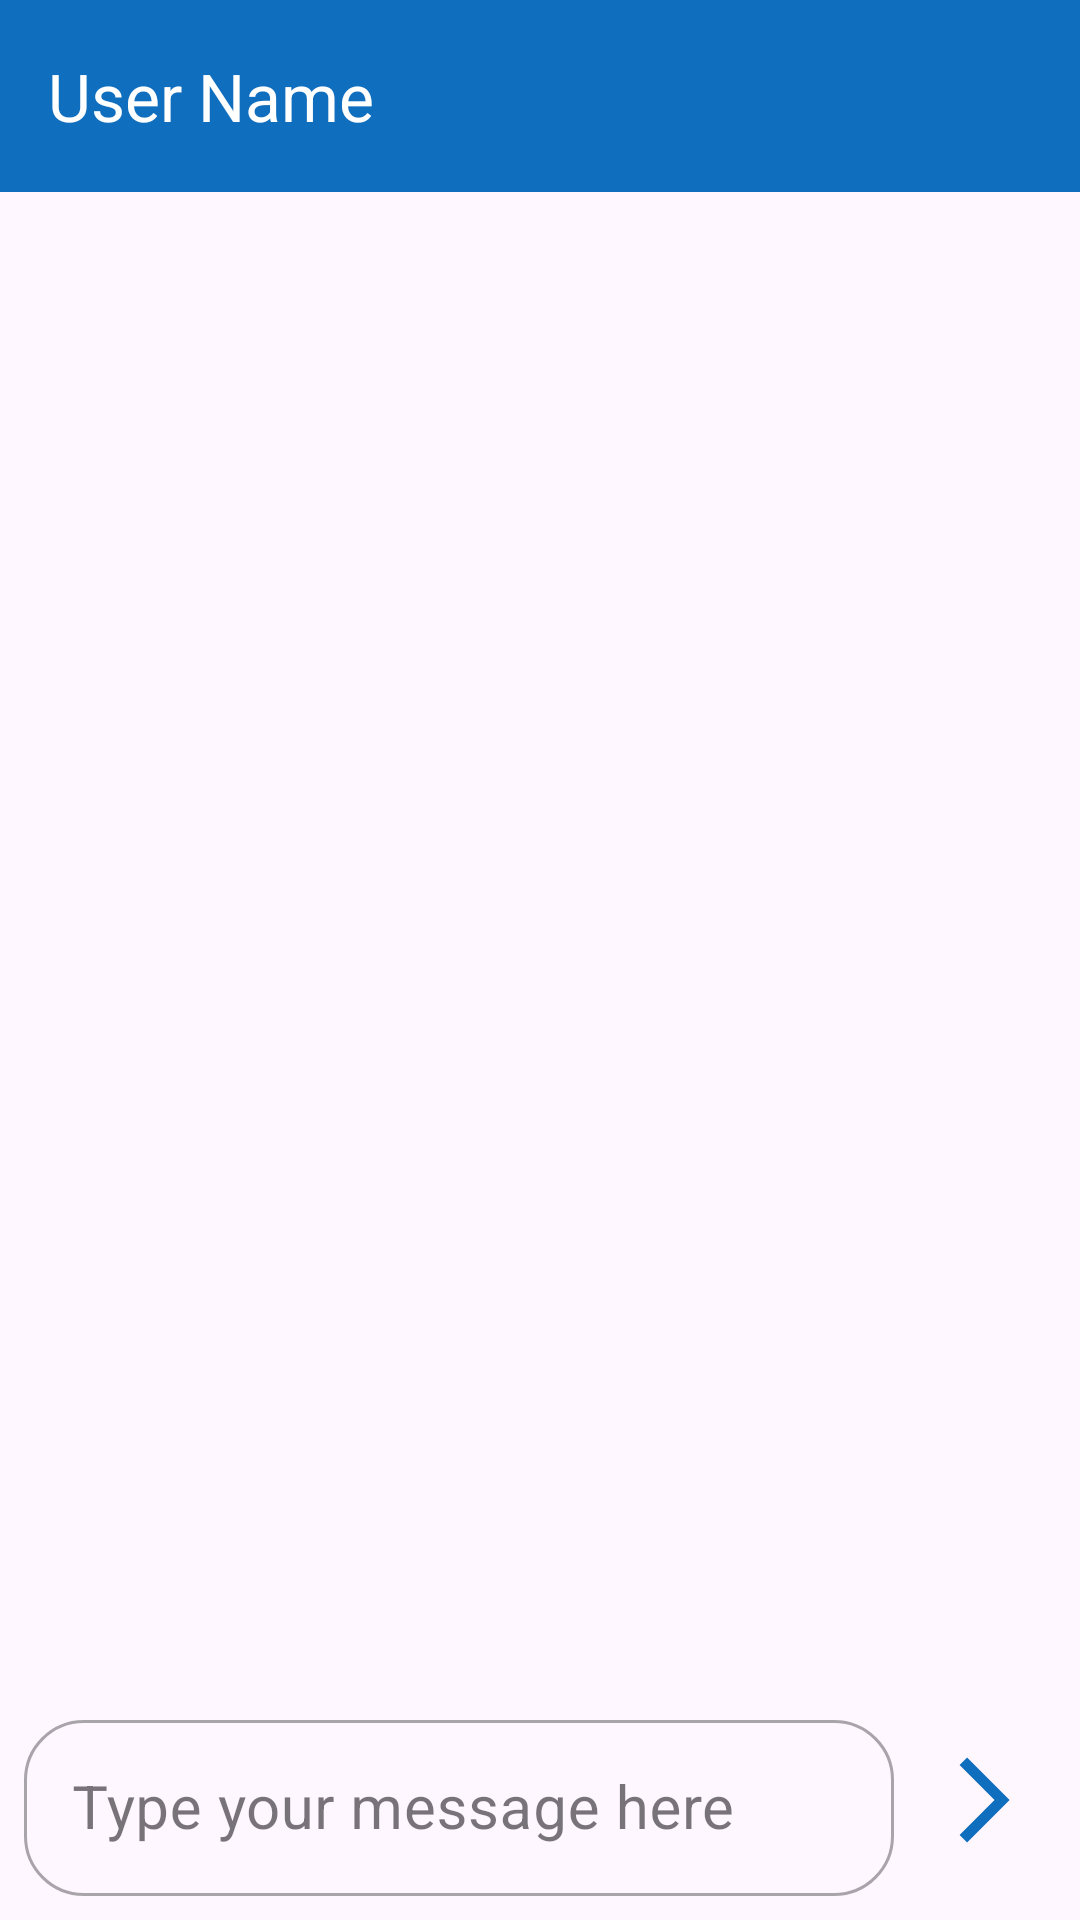

Where icons sit on this 1080*1920 app screen, as (left=x1, top=y1, right=x2, bottom=y2):
send: (left=960, top=1757, right=1010, bottom=1843)
